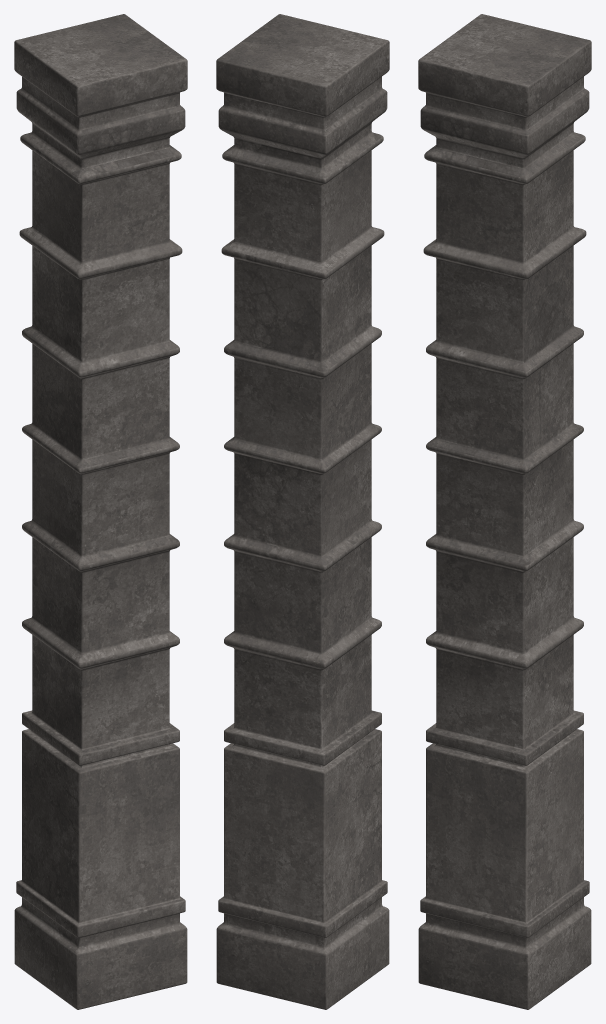
Rendered from SK7 PILLAR.fbx.
The picture shows the model from 3 angles, left to right: view 1: azimuth 30°, elevation 25°; view 2: azimuth 150°, elevation 25°; view 3: azimuth 330°, elevation 25°; orthographic projection.
Visible parts, largest first — view 1: SK7 PILLAR; view 2: SK7 PILLAR; view 3: SK7 PILLAR.
Boxes of the visible parts, x1,y1,x2,y2 form: SK7 PILLAR: [14, 14, 187, 1009]; SK7 PILLAR: [216, 14, 389, 1009]; SK7 PILLAR: [418, 14, 591, 1009].
Size of the model in its own units: 50.26 by 400 by 49.82.
